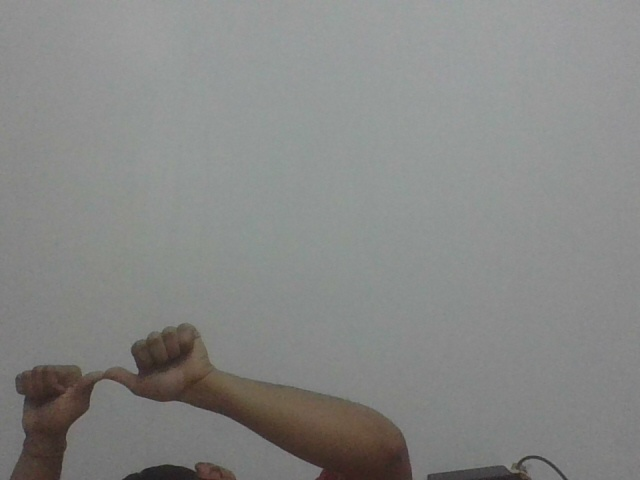A: (10, 321, 208, 433)
